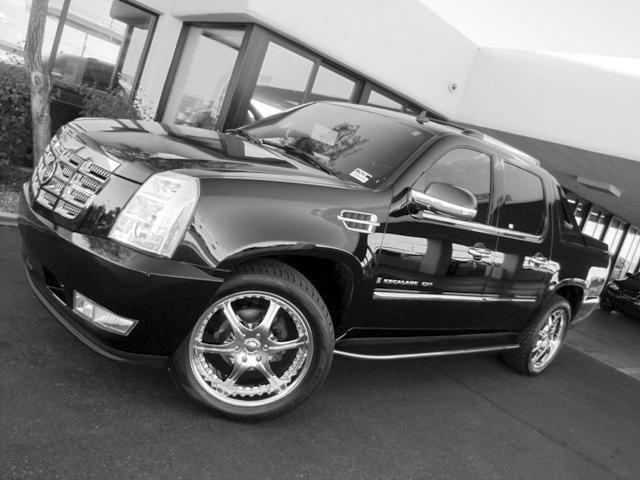car: (18, 99, 613, 427)
